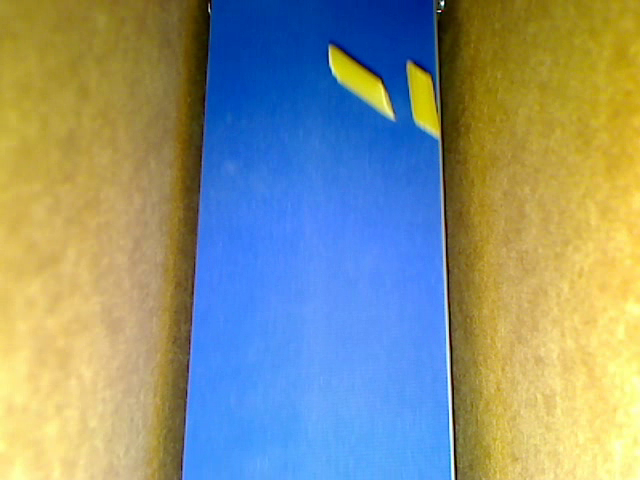penne: (327, 43, 396, 123), (405, 59, 441, 141)
